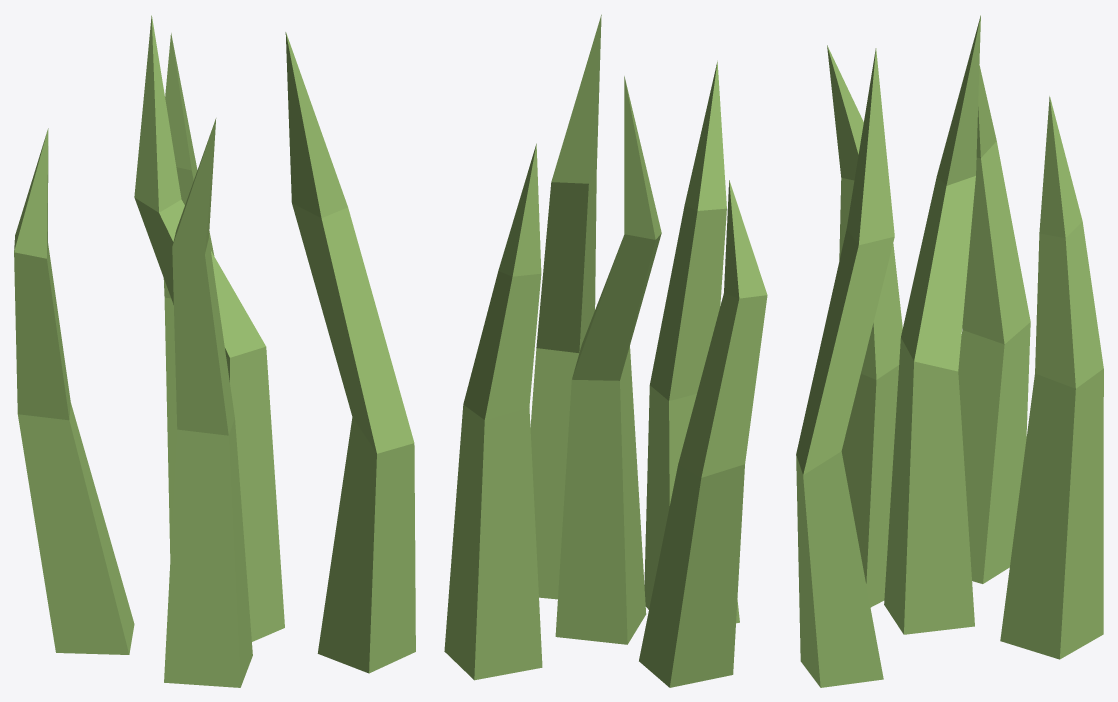
Rendered from Grass_3.fbx.
The picture shows the model from 3 angles, left to right: view 1: azimuth 30°, elevation 25°; view 2: azimuth 150°, elevation 25°; view 3: azimuth 270°, elevation 25°; orthographic projection. The views are drawn at different scales.
Parts seen in each view (by area): view 1: Grass; view 2: Grass; view 3: Grass.
Boxes of the visible parts, left/top/right/bottom form: Grass: left=14, top=15, right=415, bottom=687; Grass: left=444, top=14, right=767, bottom=687; Grass: left=796, top=15, right=1103, bottom=687.
Bounding box in the file's own units: 43.58 × 80.31 × 37.7.
